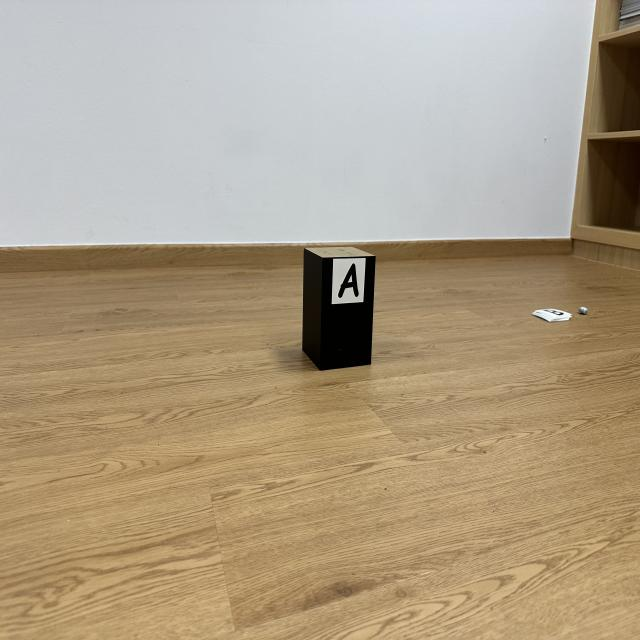A: (339, 263, 359, 298)
